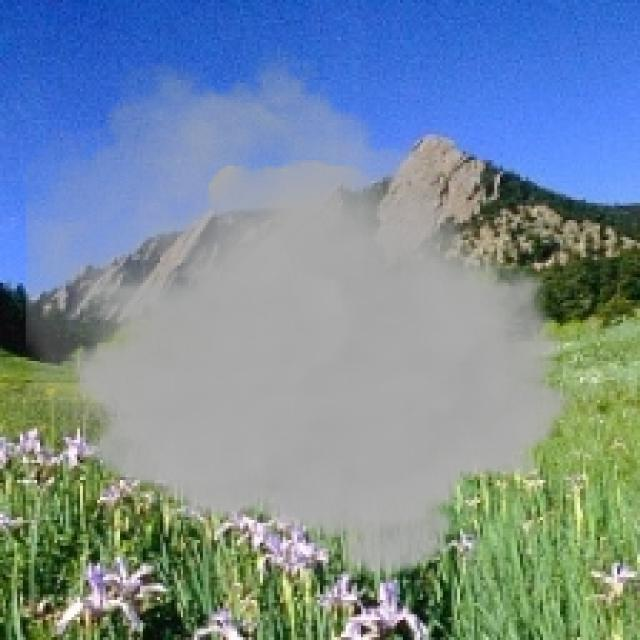Smoke: (25, 46, 578, 580)
